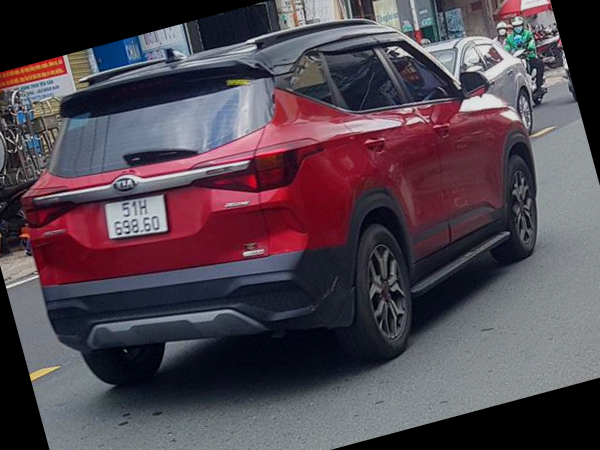lisence: (105, 194, 169, 240)
